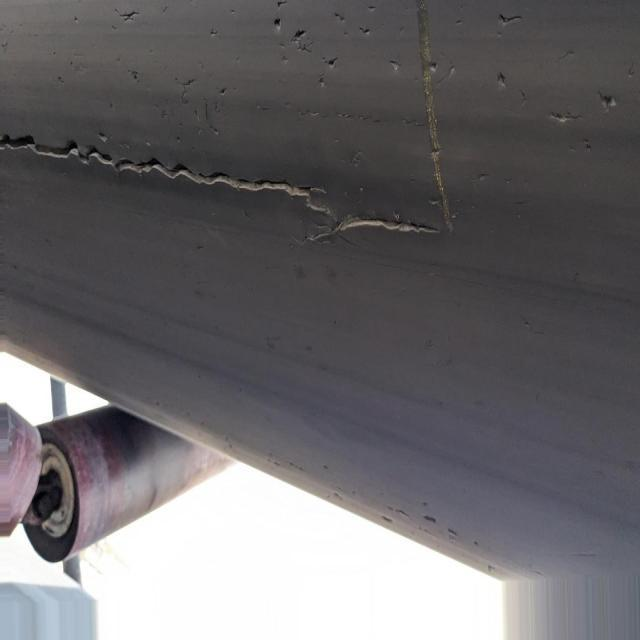Puncture: (591, 88, 624, 116), (264, 14, 288, 36), (421, 56, 443, 76), (290, 25, 310, 45), (322, 55, 343, 72), (496, 78, 507, 90)
Tear: (0, 121, 443, 244), (407, 0, 464, 240), (534, 112, 588, 128), (489, 8, 526, 28), (109, 9, 145, 25)
